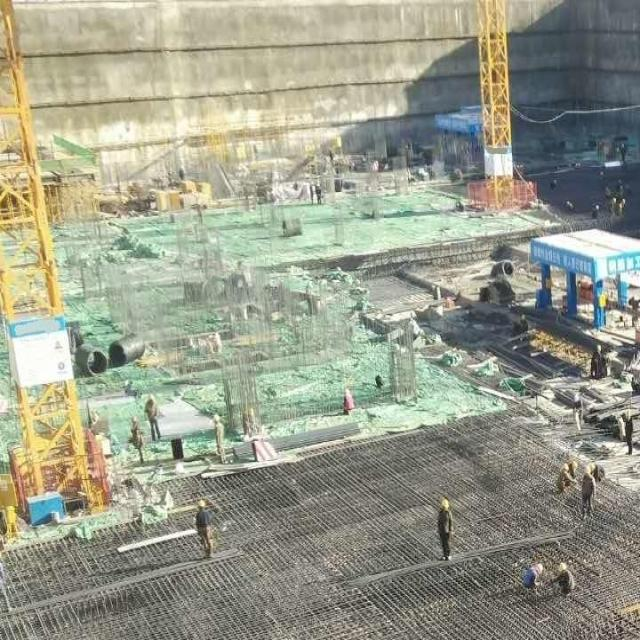crane: (0, 0, 99, 516), (468, 0, 526, 218)
